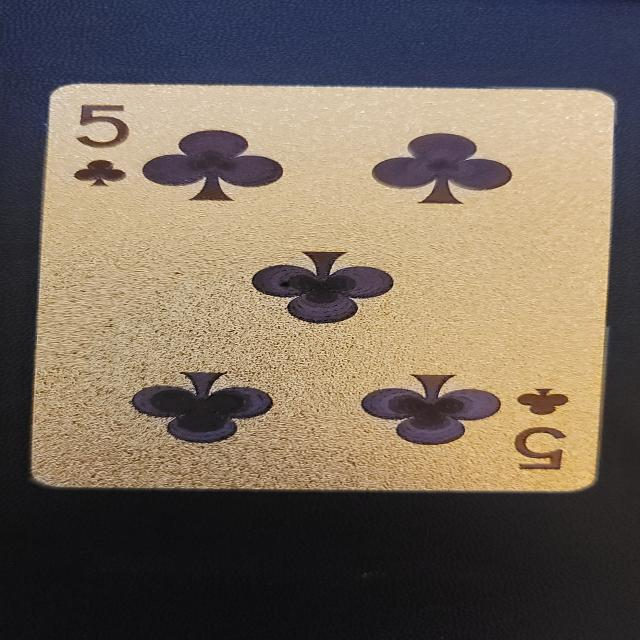5 of clubs: (25, 81, 629, 496)
